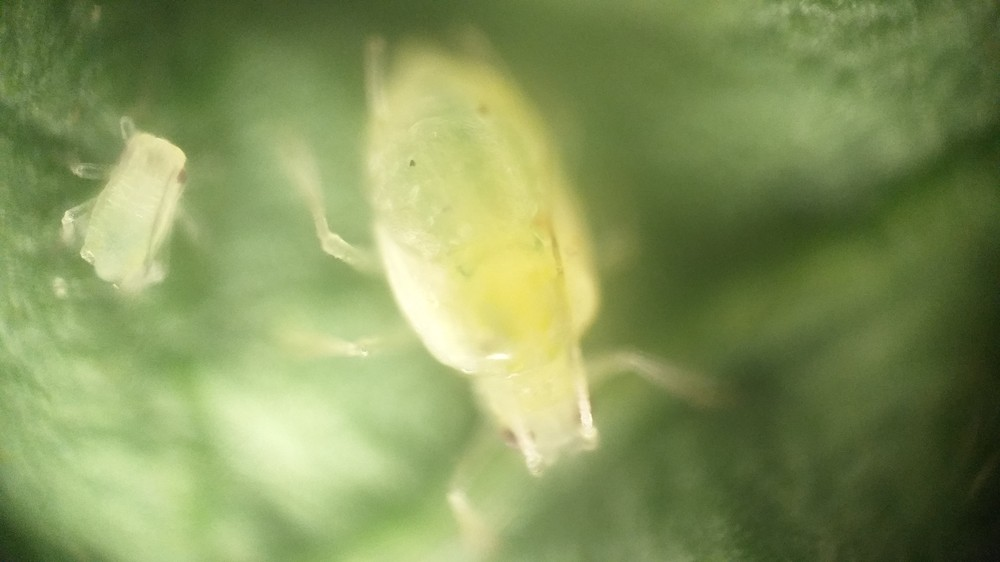Pulgon: (251, 33, 761, 546), (45, 110, 224, 299)
